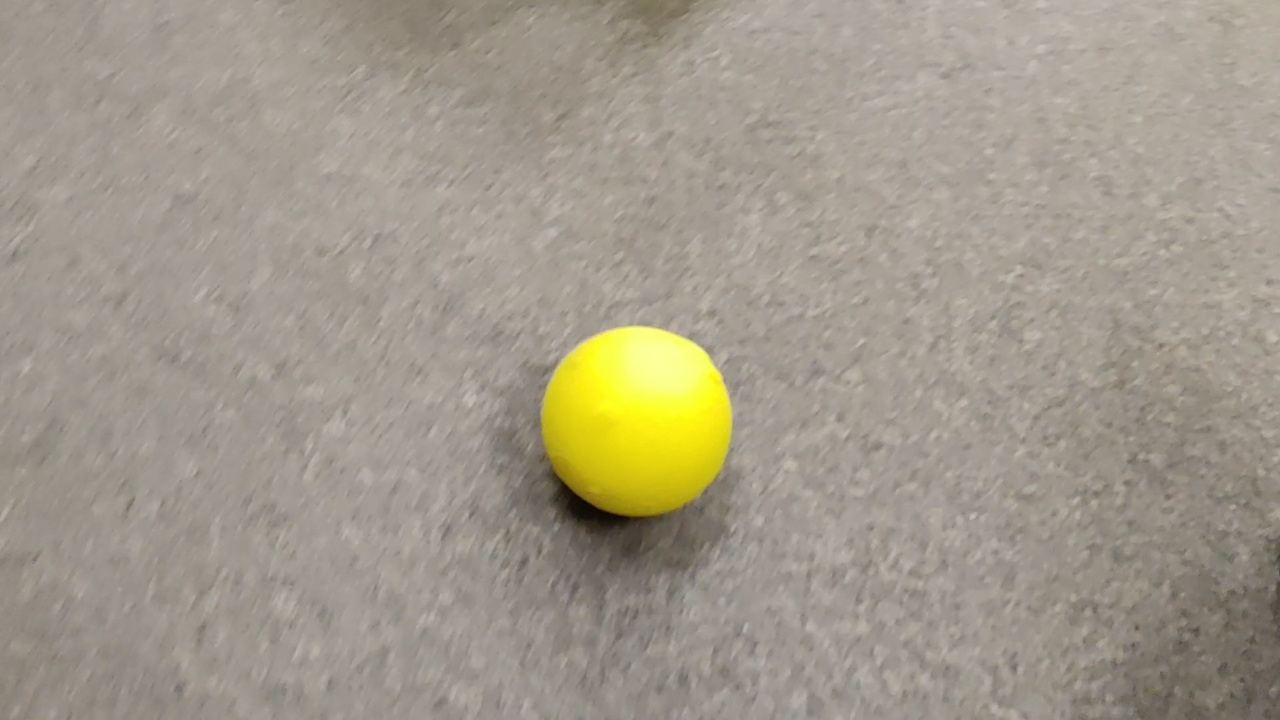Ball: (536, 326, 729, 517)
